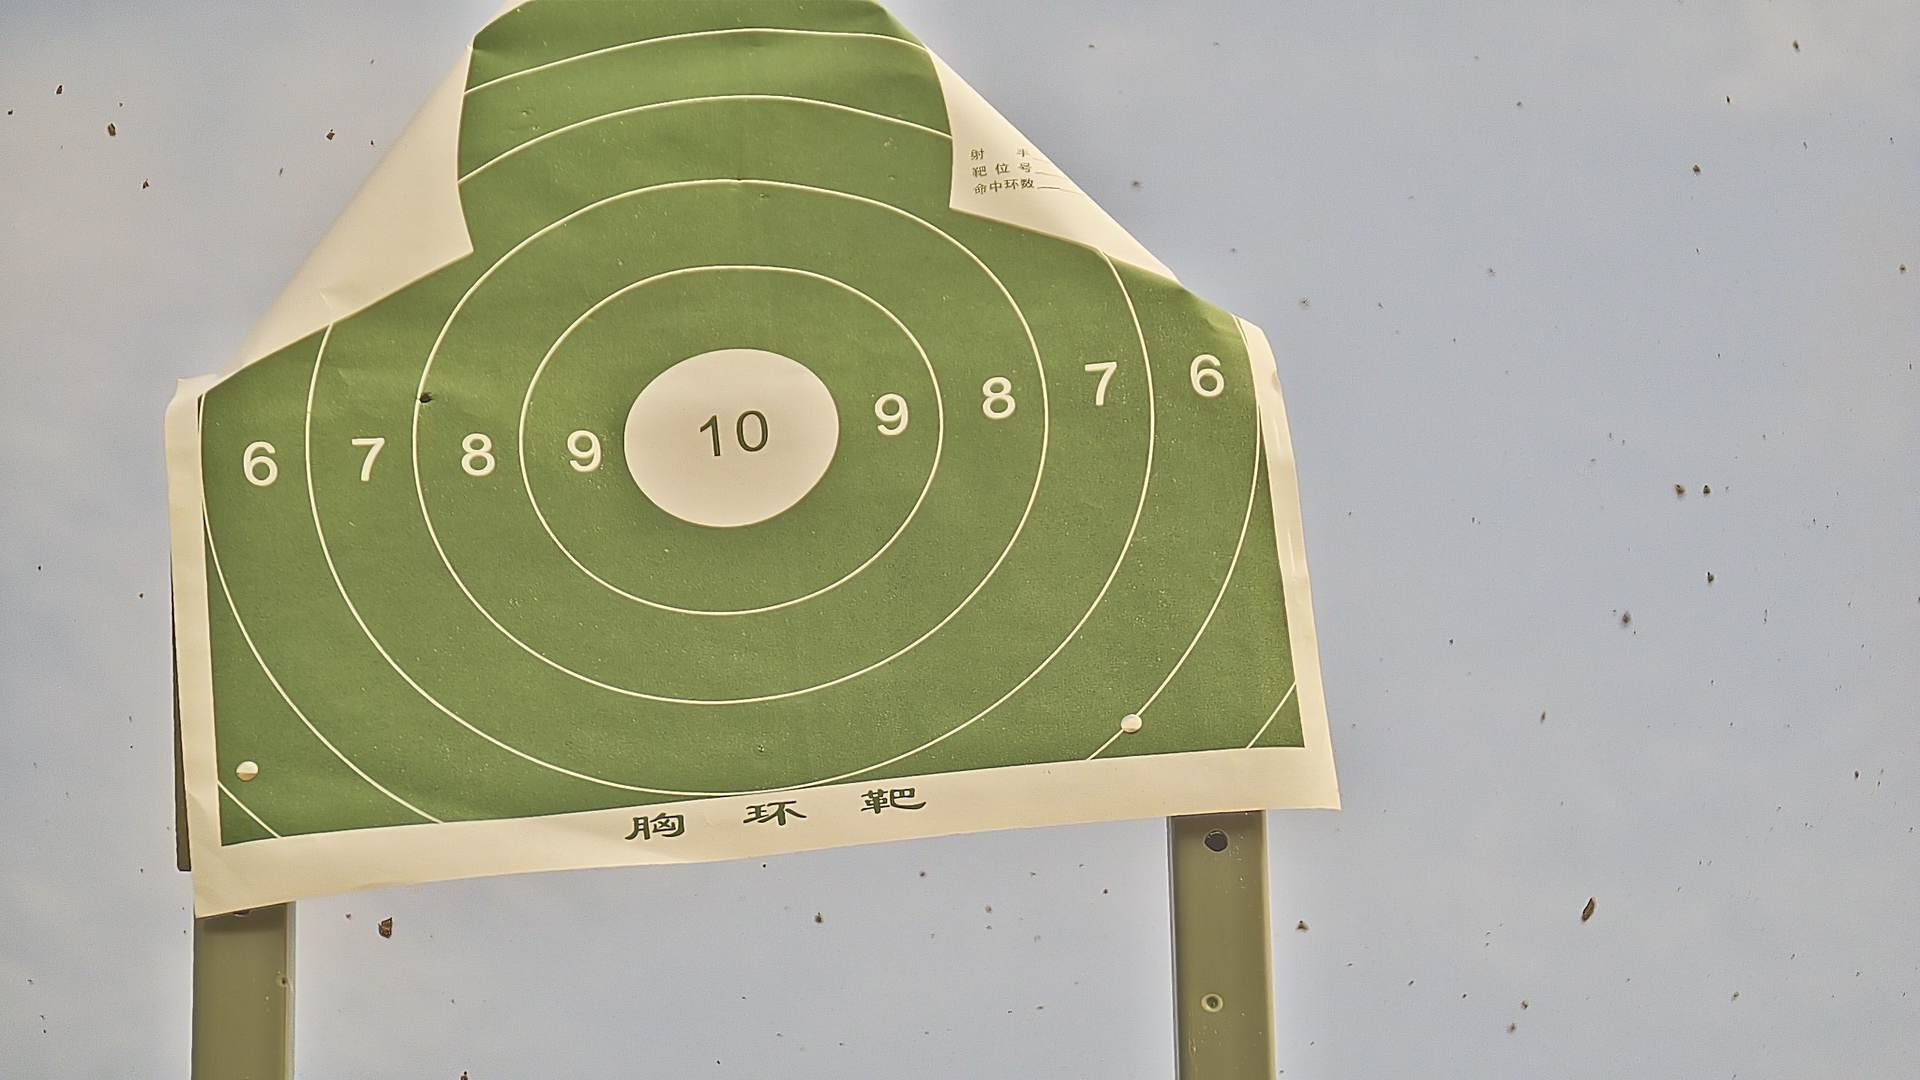hole: (418, 390, 433, 404)
kernel: (728, 434, 732, 436)
target: (189, 8, 1317, 843)
ten: (618, 347, 844, 533)
